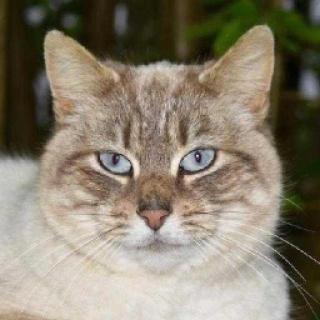cat: (38, 21, 283, 291)
nose: (131, 180, 174, 230)
